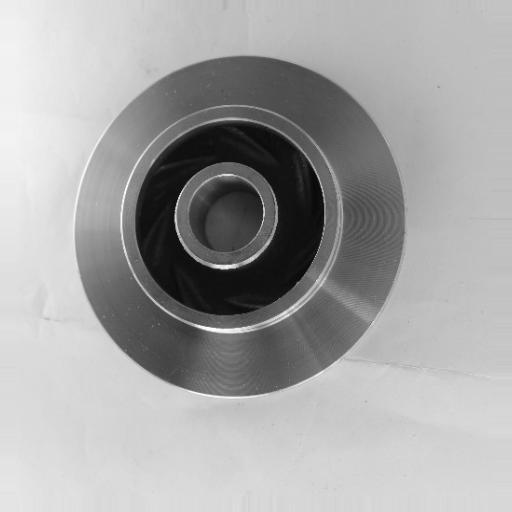polished_casting: (69, 52, 408, 402)
